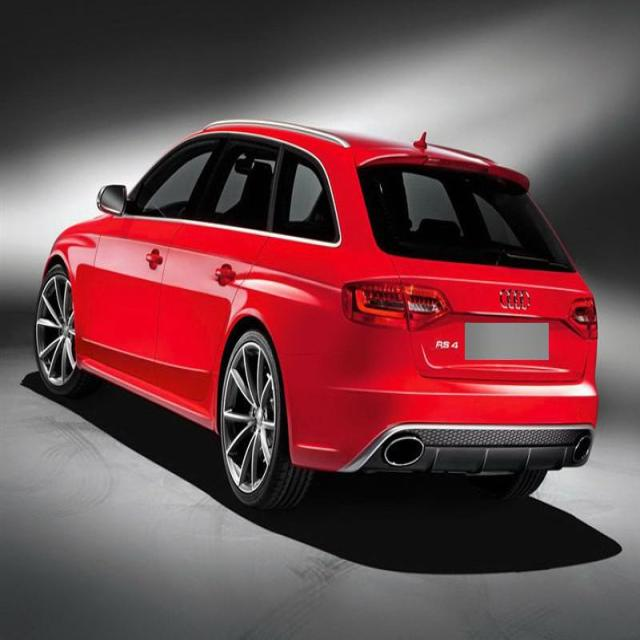back_glass: (352, 154, 578, 276)
back_left_side_light: (342, 273, 457, 339)
back_right_side_light: (565, 289, 601, 340)
door: (151, 148, 285, 399)
front_left_side_door: (82, 124, 232, 408)
front_left_side_mirror: (98, 177, 130, 221)
rear_bumper: (286, 377, 602, 479)
wheel: (215, 325, 314, 516), (32, 262, 94, 401)
